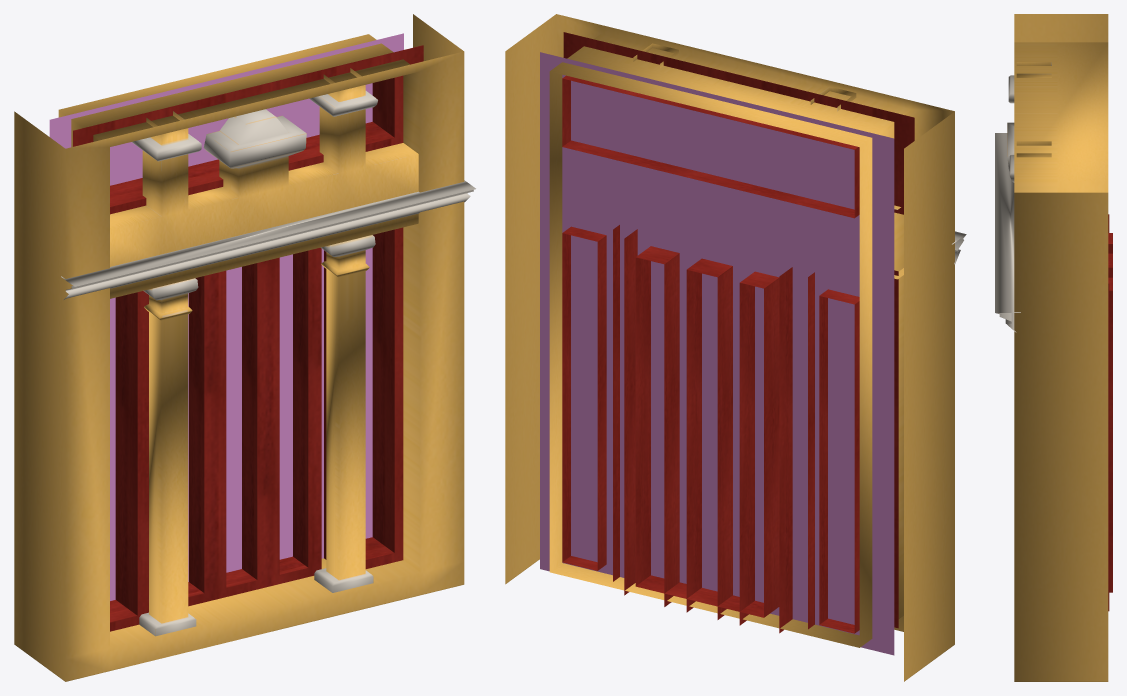
The model's file is JanelaSuperiorBorda.fbx.
3 renders of one model, left to right at view 1: azimuth 30°, elevation 25°; view 2: azimuth 150°, elevation 25°; view 3: azimuth 270°, elevation 25°, orthographic. The views are drawn at different scales.
Parts seen in each view (by area): view 1: ParedeJanelaSuperiorBorda, JanelaSuperiorBorda, GradeJanelaSuperiorBorda, VidroJanelaSuperiorBorda, DetalheJanelaSuperiorBorda; view 2: VidroJanelaSuperiorBorda, ParedeJanelaSuperiorBorda, JanelaSuperiorBorda; view 3: ParedeJanelaSuperiorBorda, DetalheJanelaSuperiorBorda, JanelaSuperiorBorda, GradeJanelaSuperiorBorda.
Boxes of the visible parts, bbox=[...] form: ParedeJanelaSuperiorBorda: bbox=[14, 14, 464, 681]; JanelaSuperiorBorda: bbox=[73, 45, 423, 631]; GradeJanelaSuperiorBorda: bbox=[110, 68, 418, 636]; VidroJanelaSuperiorBorda: bbox=[49, 33, 403, 600]; DetalheJanelaSuperiorBorda: bbox=[61, 180, 475, 299]; VidroJanelaSuperiorBorda: bbox=[540, 52, 894, 655]; ParedeJanelaSuperiorBorda: bbox=[505, 14, 954, 681]; JanelaSuperiorBorda: bbox=[562, 32, 914, 633]; ParedeJanelaSuperiorBorda: bbox=[1014, 14, 1108, 681]; DetalheJanelaSuperiorBorda: bbox=[995, 133, 1020, 332]; JanelaSuperiorBorda: bbox=[1108, 214, 1112, 611]; GradeJanelaSuperiorBorda: bbox=[1007, 62, 1051, 182].
Size of the model in its own units: 181 by 230 by 50.2.
